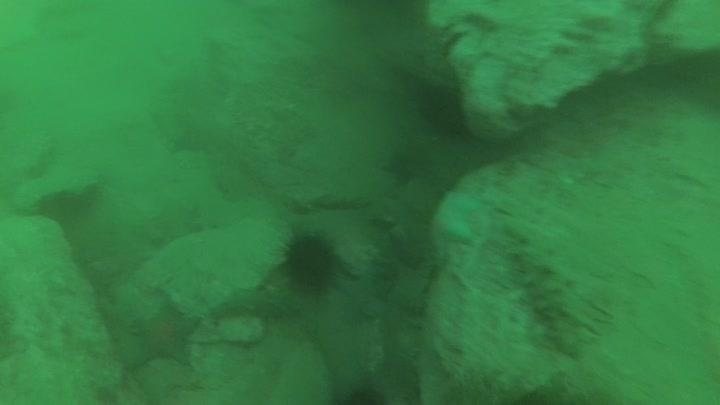echinus: (275, 228, 342, 297)
holothurian: (506, 226, 594, 356)
starfish: (122, 293, 204, 372)
